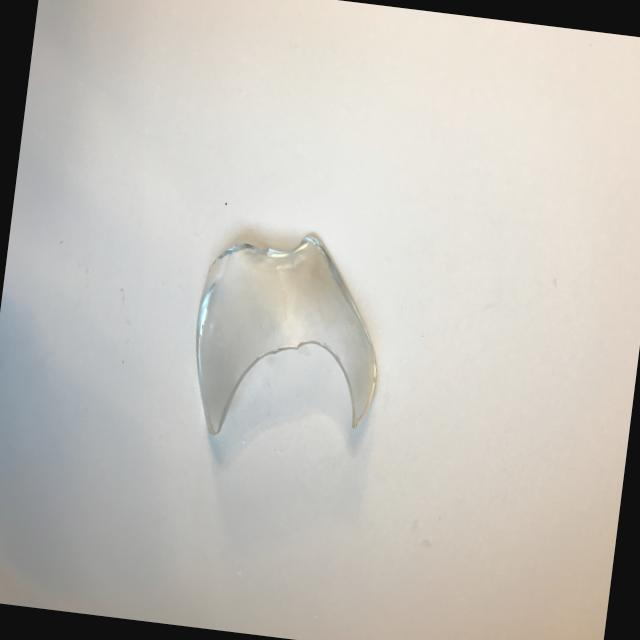Glass: (168, 208, 408, 487)
